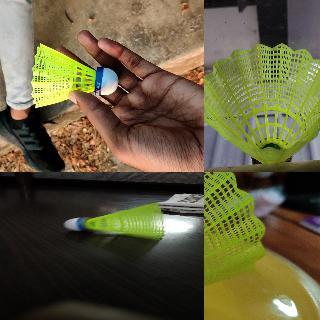shuttlecock: (204, 42, 319, 164), (204, 172, 264, 319), (31, 43, 118, 105), (63, 202, 164, 240)
